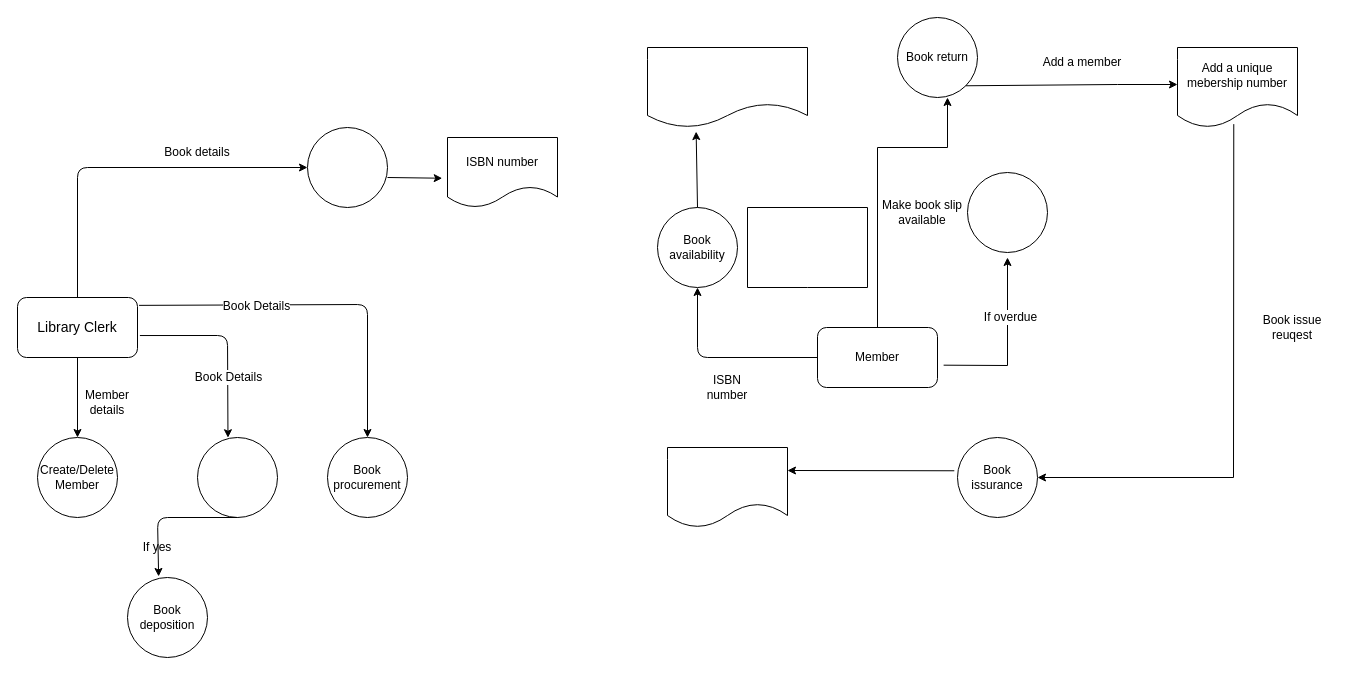
This 1355x675 diagram has some shape labels left out. Each missing label, with the centre of its shape:
Book registration: (x=347, y=167)
Check: (x=237, y=477)
Mark book as issued: (x=727, y=487)
Print reminder message: (x=1007, y=212)
Rack number and number: (x=727, y=87)
